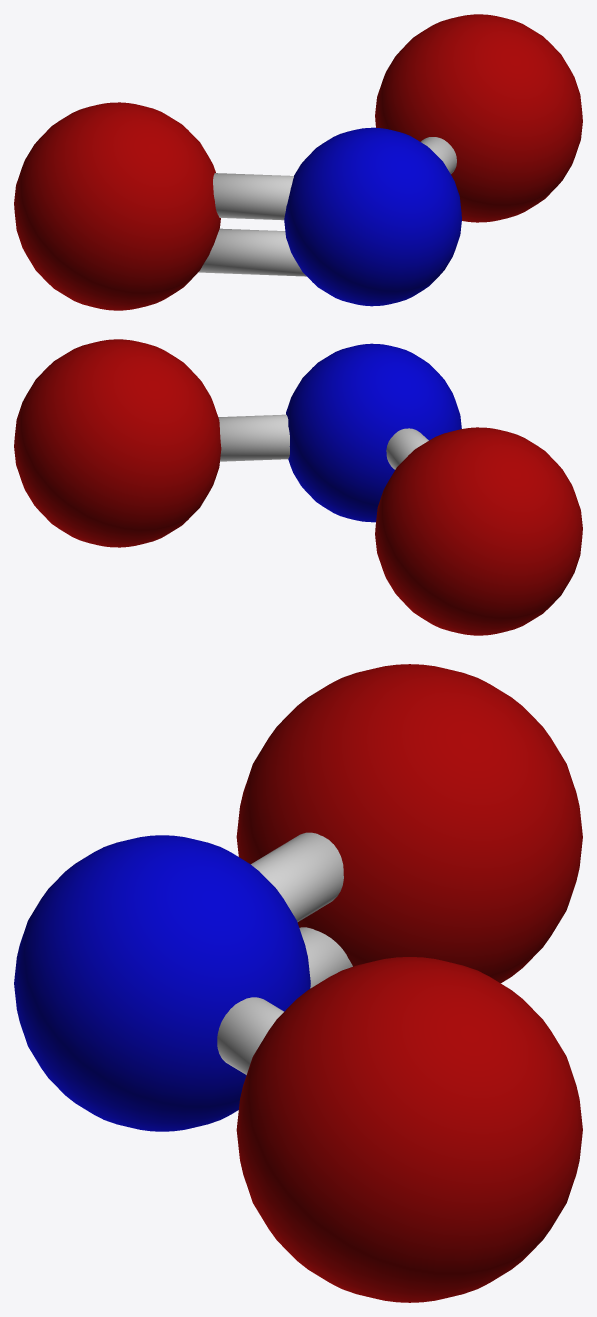
3 views of the same model, one above another, from view 1: azimuth 30°, elevation 25°; view 2: azimuth 150°, elevation 25°; view 3: azimuth 270°, elevation 25° (orthographic). The views are drawn at different scales.
Parts seen in each view (by area): view 1: Esfera.007_Esfera.010, Esfera.006_Esfera.009, Esfera.005_Esfera.007, Cilindro.006_Cilindro.009, Cilindro.005_Cilindro.008, Cilindro.004_Cilindro.007; view 2: Esfera.007_Esfera.010, Esfera.006_Esfera.009, Esfera.005_Esfera.007, Cilindro.004_Cilindro.007, Cilindro.005_Cilindro.008; view 3: Esfera.006_Esfera.009, Esfera.007_Esfera.010, Esfera.005_Esfera.007, Cilindro.005_Cilindro.008, Cilindro.004_Cilindro.007, Cilindro.006_Cilindro.009.
Boxes of the visible parts, left/top/right/bottom form: Esfera.007_Esfera.010: left=14, top=102, right=220, bottom=310; Esfera.006_Esfera.009: left=375, top=14, right=582, bottom=222; Esfera.005_Esfera.007: left=284, top=127, right=461, bottom=306; Cilindro.006_Cilindro.009: left=198, top=228, right=306, bottom=276; Cilindro.005_Cilindro.008: left=213, top=173, right=293, bottom=220; Cilindro.004_Cilindro.007: left=421, top=137, right=456, bottom=173; Esfera.007_Esfera.010: left=375, top=427, right=582, bottom=635; Esfera.006_Esfera.009: left=14, top=339, right=221, bottom=547; Esfera.005_Esfera.007: left=286, top=343, right=461, bottom=522; Cilindro.004_Cilindro.007: left=218, top=414, right=289, bottom=461; Cilindro.005_Cilindro.008: left=386, top=428, right=428, bottom=469; Esfera.006_Esfera.009: left=236, top=957, right=582, bottom=1302; Esfera.007_Esfera.010: left=236, top=664, right=582, bottom=983; Esfera.005_Esfera.007: left=14, top=835, right=310, bottom=1131; Cilindro.005_Cilindro.008: left=251, top=832, right=343, bottom=922; Cilindro.004_Cilindro.007: left=217, top=997, right=283, bottom=1074; Cilindro.006_Cilindro.009: left=299, top=927, right=352, bottom=988.
Bounding box in the file's own units: 4.2 × 1.4 × 2.3.
